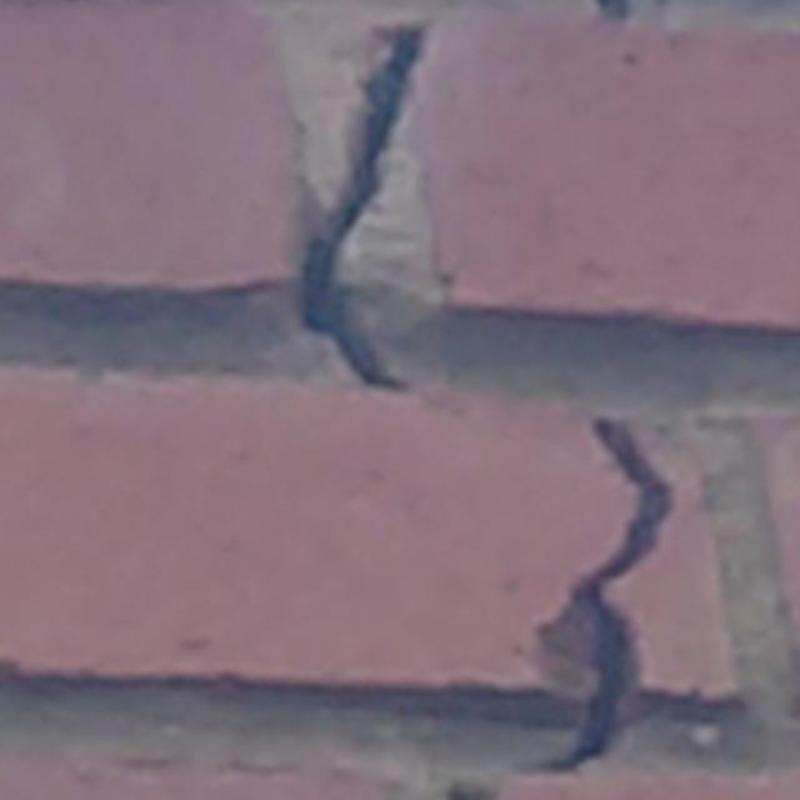pothole: (545, 419, 670, 770), (303, 28, 422, 388)
